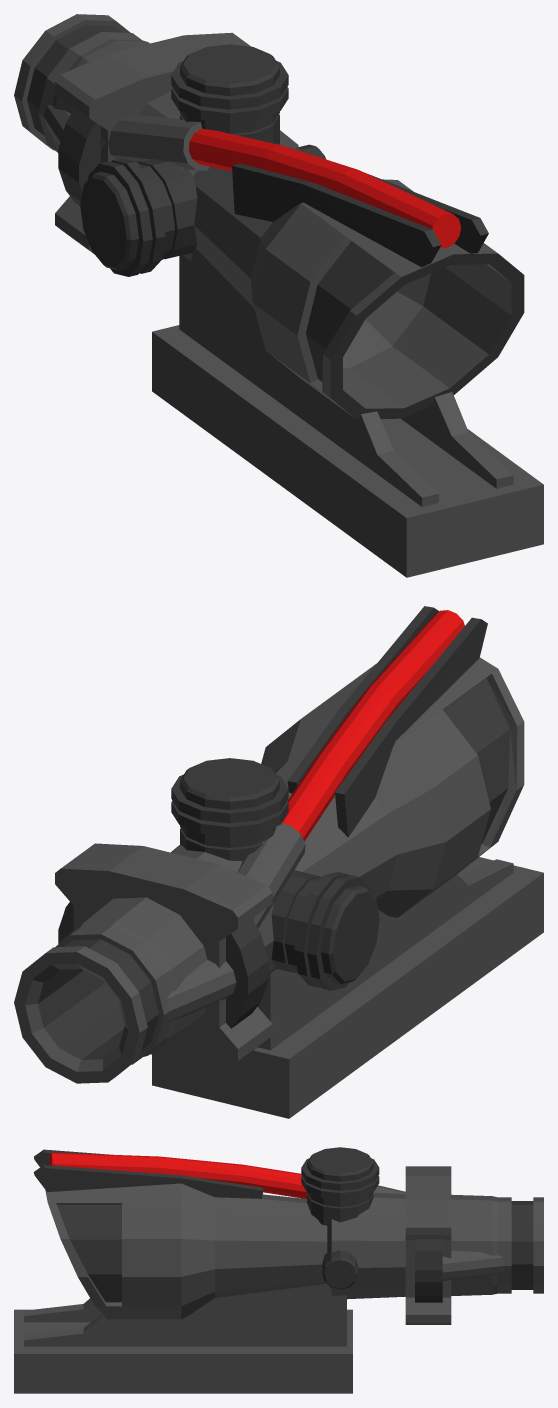
The model's file is ACOG.fbx.
The picture shows the model from 3 angles, top to bottom: view 1: azimuth 30°, elevation 25°; view 2: azimuth 150°, elevation 25°; view 3: azimuth 270°, elevation 25°; orthographic projection. The views are drawn at different scales.
Visible parts, largest first — view 1: ACOG; view 2: ACOG; view 3: ACOG.
Part boxes in pixels (x1,y1,x2,y2): ACOG: (14, 14, 543, 577); ACOG: (14, 606, 543, 1118); ACOG: (14, 1147, 543, 1393).
Bounding box in the file's own units: 6.18 × 8.65 × 19.11.
Materials: 1 (1 with a texture image).
